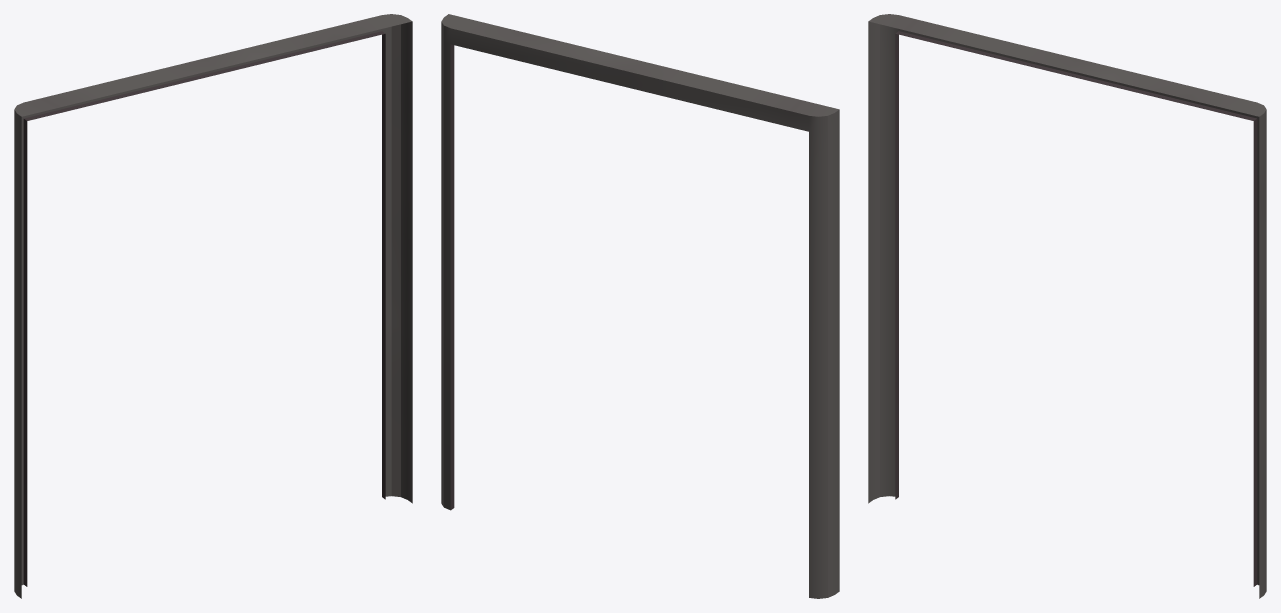
The model's file is doorFrame.fbx.
3 views of the same model, side by side, from view 1: azimuth 30°, elevation 25°; view 2: azimuth 150°, elevation 25°; view 3: azimuth 330°, elevation 25° (orthographic).
Visible parts, largest first — view 1: doorFrame; view 2: doorFrame; view 3: doorFrame.
Boxes of the visible parts, x1,y1,x2,y2 form: doorFrame: (14, 14, 412, 598); doorFrame: (441, 14, 839, 598); doorFrame: (868, 14, 1266, 598).
Size of the model in its own units: 318 by 375 by 20.
